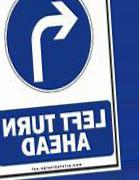right: (5, 1, 94, 93)
